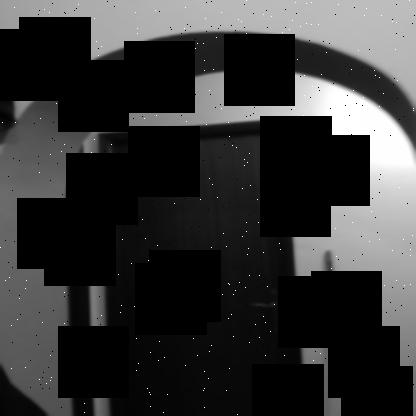Porte: (94, 116, 311, 416)
